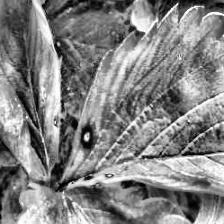Leaf Spot: (50, 2, 224, 224), (0, 0, 63, 185)
